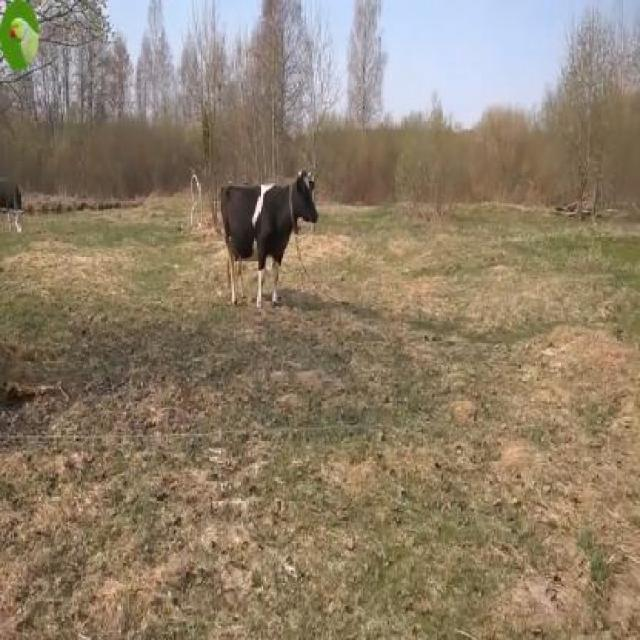Cow: (217, 172, 321, 306)
